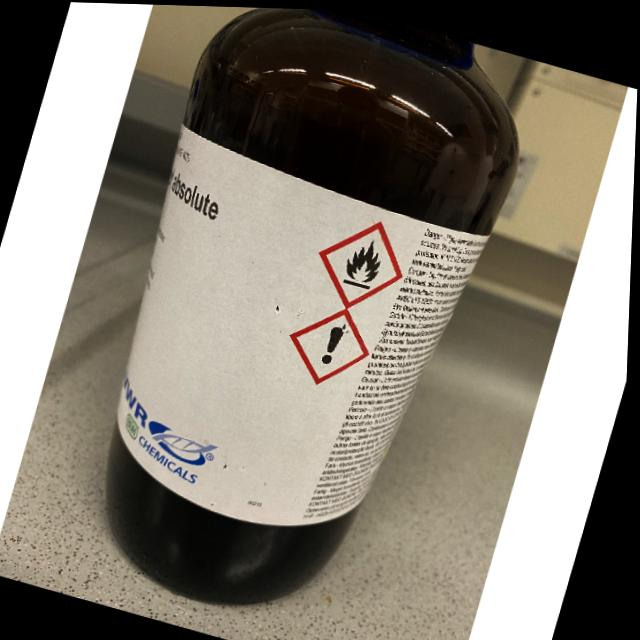flammable: (343, 233, 388, 289)
health-ozone layer hazard: (322, 322, 346, 365)
